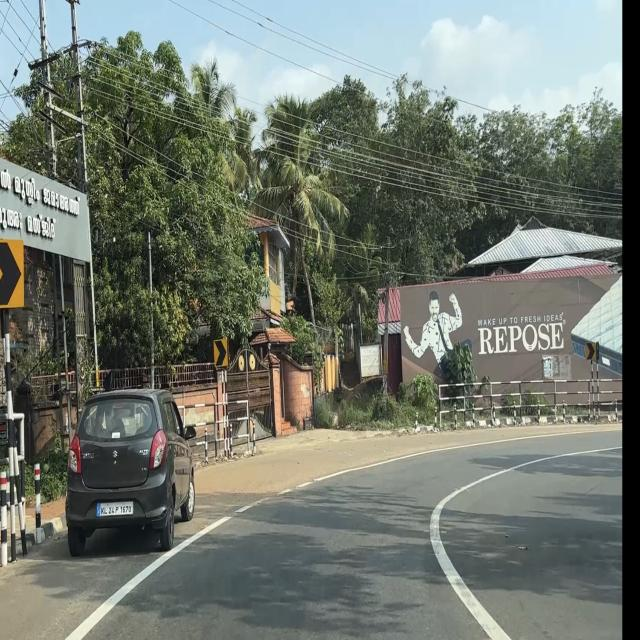TURN_RIGHT: (0, 238, 25, 310), (214, 338, 228, 368), (586, 342, 596, 360)
